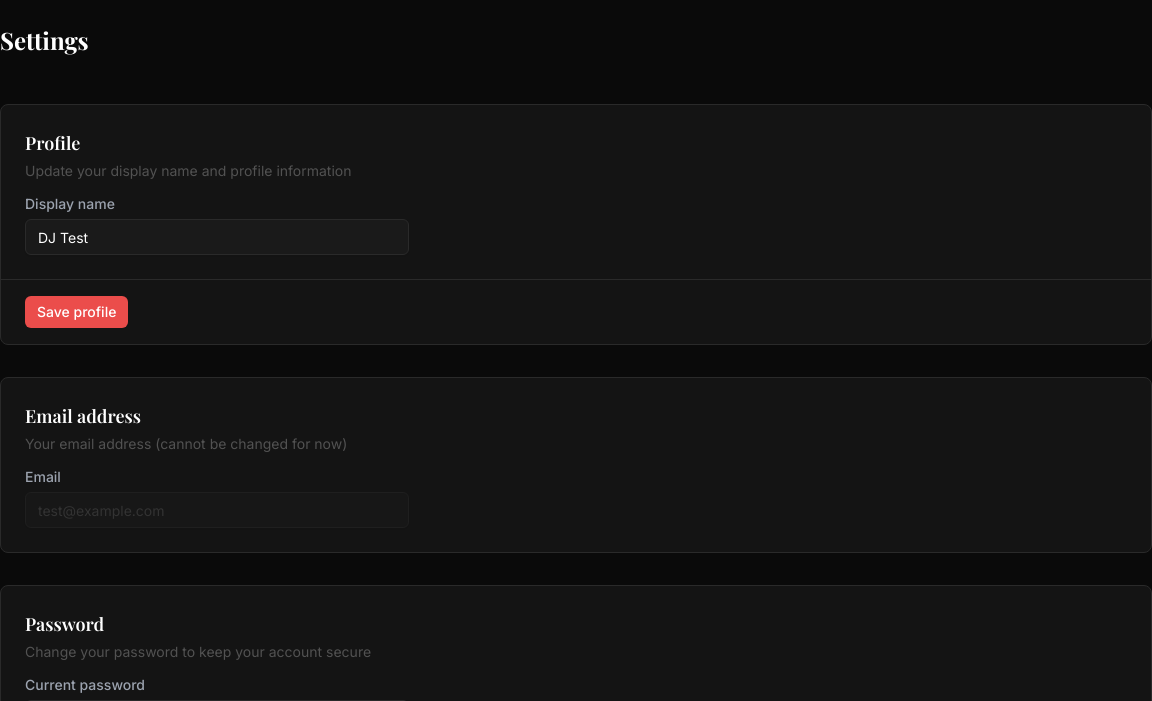
Test case: SettingsPage › profile update › shows success message after profile update
Replace the text in the field labelled "Display name" with "New Name" at (217, 237), box [25, 219, 409, 255]
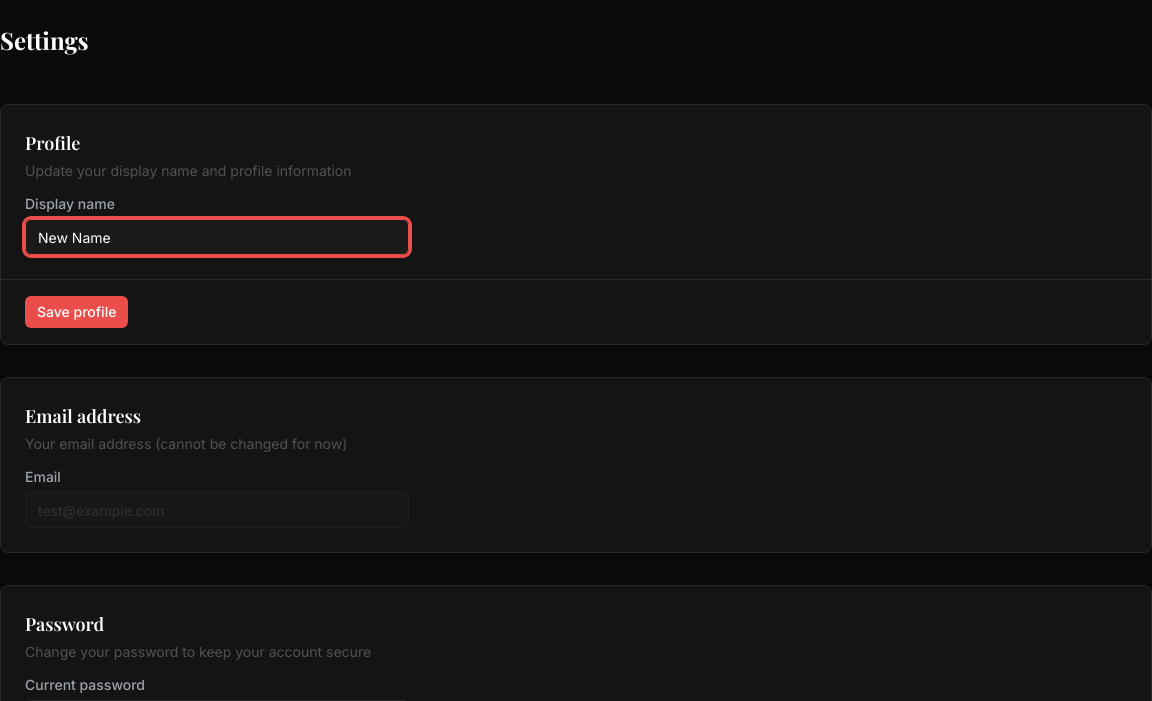
Click the button "Save profile".
click(77, 312)  # box [25, 296, 128, 328]
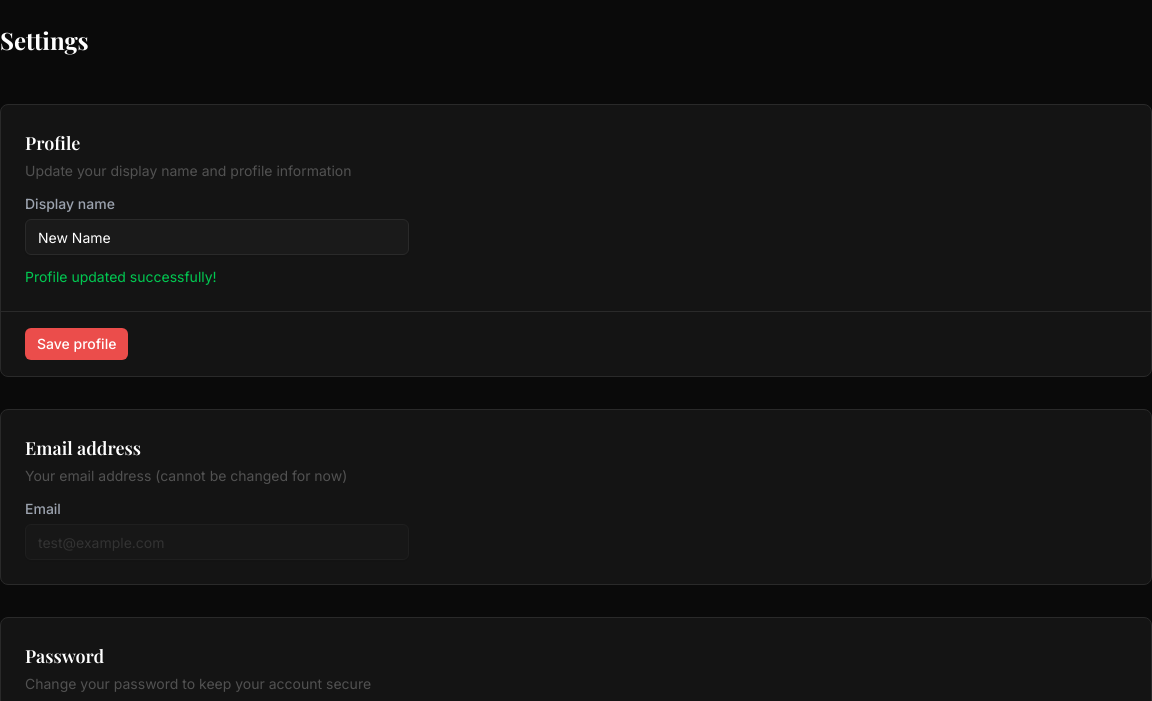
Expected: the text "Profile updated successfully!" is shown, [25, 268, 217, 285]
